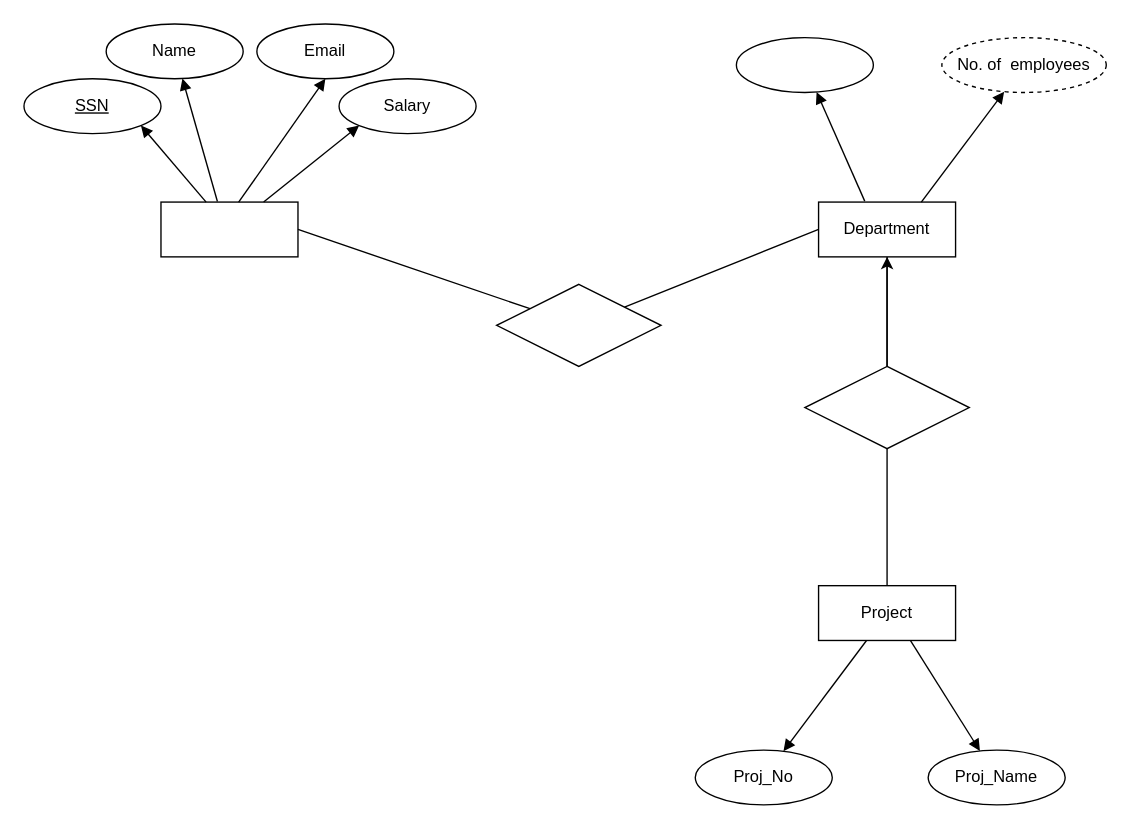
Image size: 1130x829. Some labels were removed from this diagram. Each missing label, with the box of its shape:
Controls: (804, 365, 969, 449)
Dep_No: (735, 36, 873, 92)
Employee: (160, 201, 298, 257)
Works_for: (495, 283, 661, 366)
